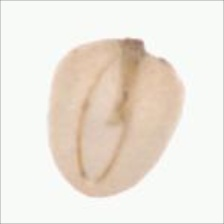L5: (75, 60, 130, 184), (65, 174, 132, 205), (114, 35, 172, 67)
L6: (45, 36, 187, 199)
